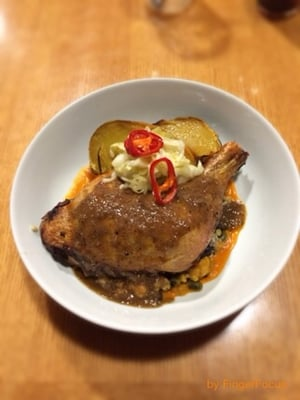curry: (1, 0, 299, 369), (0, 50, 299, 399)
